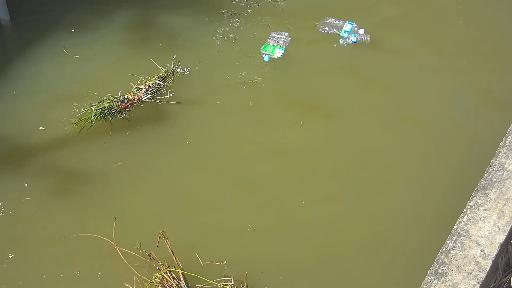plastic: (255, 27, 298, 61), (314, 16, 365, 38), (327, 30, 376, 42)
twig: (73, 209, 261, 288), (77, 42, 187, 138)
